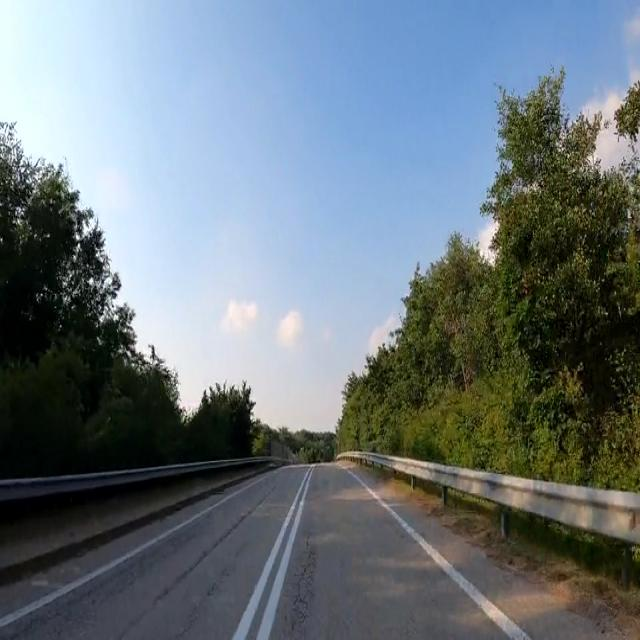lane: (348, 469, 529, 639), (232, 469, 309, 639)
